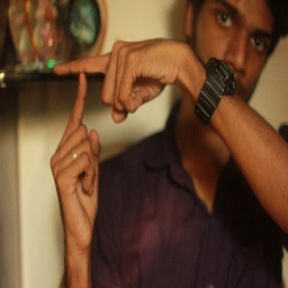T: (48, 44, 118, 157)
